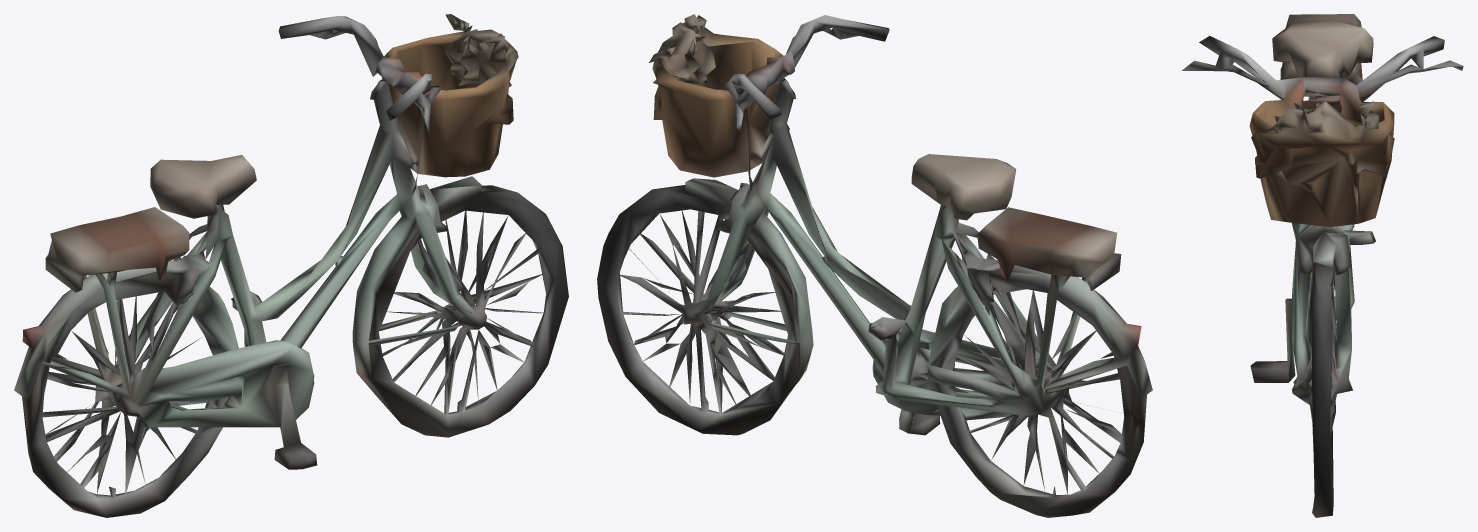
The model's file is bike_lady.glb.
3 renders of one model, left to right at view 1: azimuth 30°, elevation 25°; view 2: azimuth 150°, elevation 25°; view 3: azimuth 270°, elevation 25°, orthographic. The views are drawn at different scales.
Parts seen in each view (by area): view 1: world; view 2: world; view 3: world.
Boxes of the visible parts, x1,y1,x2,y2 form: world: (14, 14, 568, 517); world: (597, 14, 1152, 517); world: (1181, 14, 1463, 517).
Size of the model in its own units: 1.46 by 1.04 by 0.6325.
